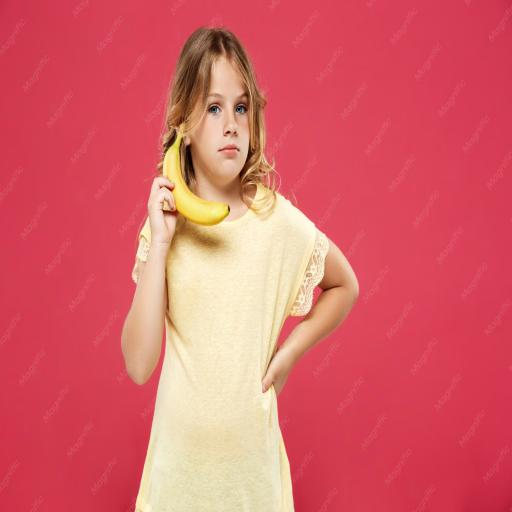banana: (163, 126, 229, 225)
